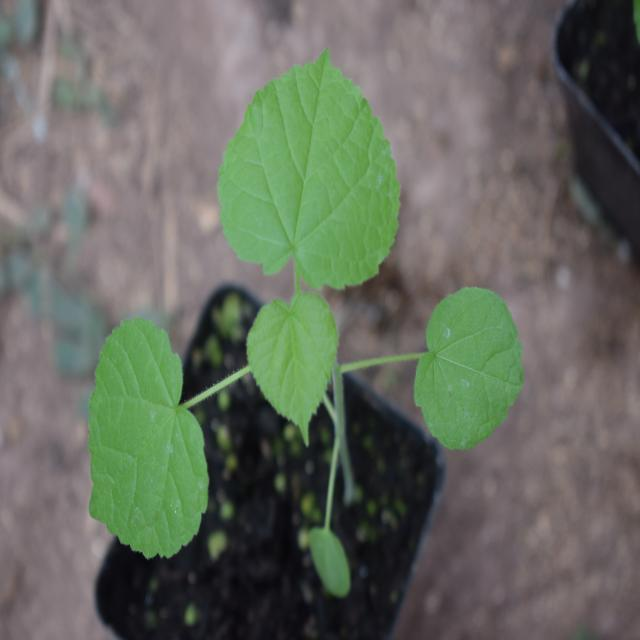abutilon theophrasti: (87, 55, 524, 555)
